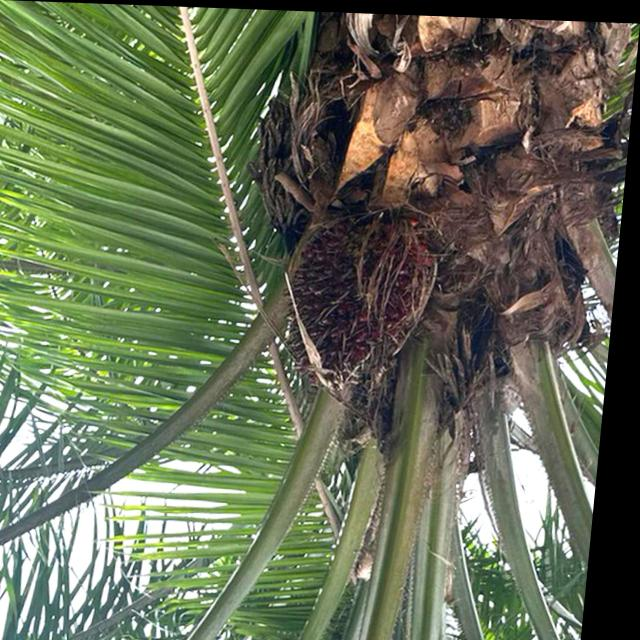ripe: (261, 190, 459, 404)
